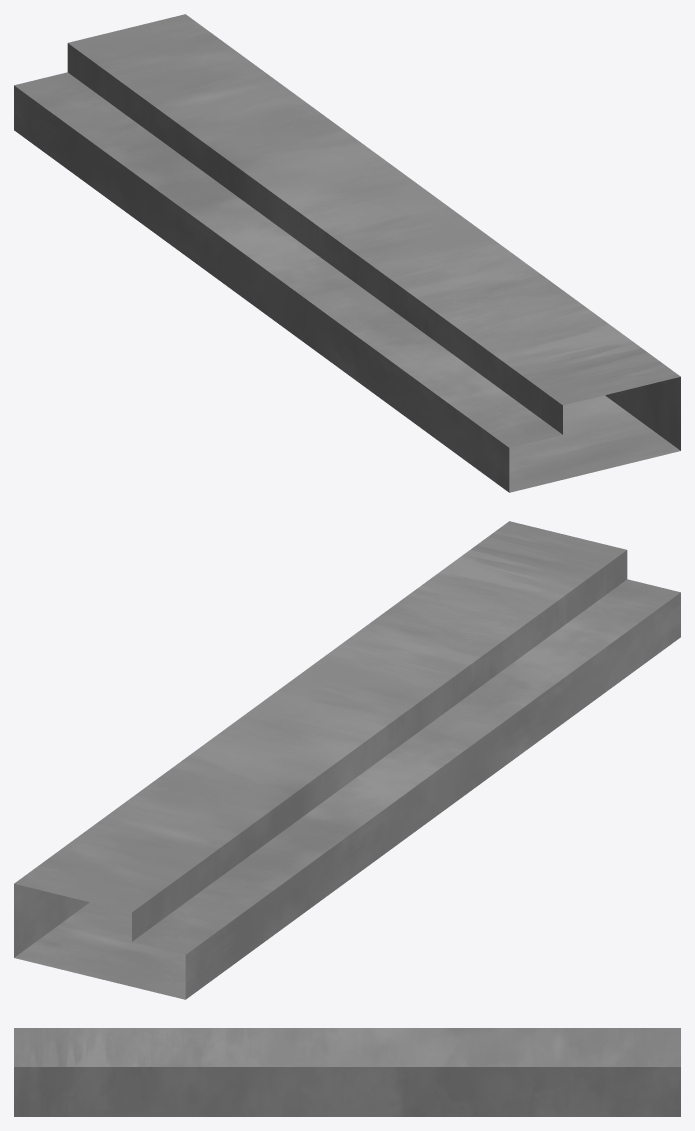
Rendered from Base_teto_B.fbx.
3 views of the same model, one above another, from view 1: azimuth 30°, elevation 25°; view 2: azimuth 150°, elevation 25°; view 3: azimuth 270°, elevation 25° (orthographic). The views are drawn at different scales.
Parts seen in each view (by area): view 1: Cube.012; view 2: Cube.012; view 3: Cube.012.
Boxes of the visible parts, x1,y1,x2,y2 form: Cube.012: (14, 14, 680, 492); Cube.012: (14, 521, 680, 999); Cube.012: (14, 1028, 680, 1116).
Size of the model in its own units: 80 by 33.08 by 400.
